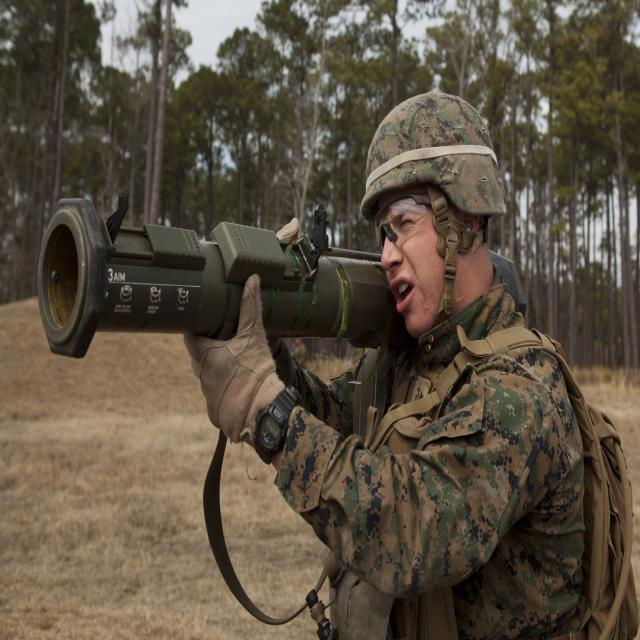bazooka: (33, 175, 414, 484)
